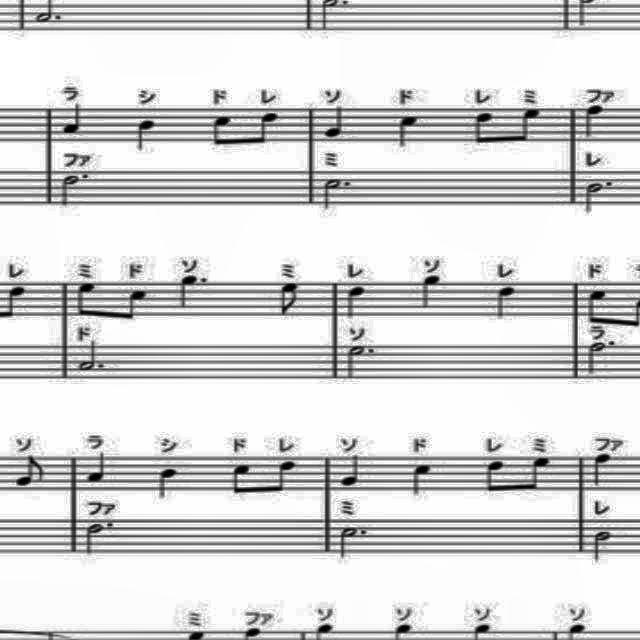Eighth-note: (10, 452, 50, 492), (70, 276, 106, 320), (224, 459, 262, 497), (512, 106, 546, 148), (524, 452, 556, 496), (586, 284, 618, 328), (0, 281, 28, 331), (479, 453, 509, 499), (471, 108, 502, 152), (118, 286, 150, 326), (273, 456, 303, 496), (253, 110, 283, 148), (208, 111, 236, 151), (276, 279, 304, 317)
Half-dot: (80, 516, 120, 560), (332, 524, 372, 560), (342, 342, 378, 380), (58, 170, 92, 210), (582, 177, 616, 215), (322, 176, 354, 214), (74, 337, 106, 375), (586, 338, 618, 376)
Half-note: (590, 528, 620, 564)
Quarter-dot: (176, 273, 210, 311)
Quarter-note: (582, 101, 614, 142), (335, 453, 369, 491), (320, 103, 352, 141), (416, 273, 446, 311), (83, 451, 113, 489), (408, 458, 436, 498), (58, 99, 86, 137), (132, 116, 160, 154), (156, 462, 184, 500), (343, 280, 369, 320), (591, 450, 617, 490), (394, 114, 422, 150), (494, 283, 518, 325)
